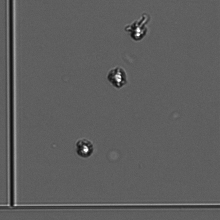Living Cell: (106, 67, 128, 88), (128, 20, 147, 42), (74, 139, 95, 158)
